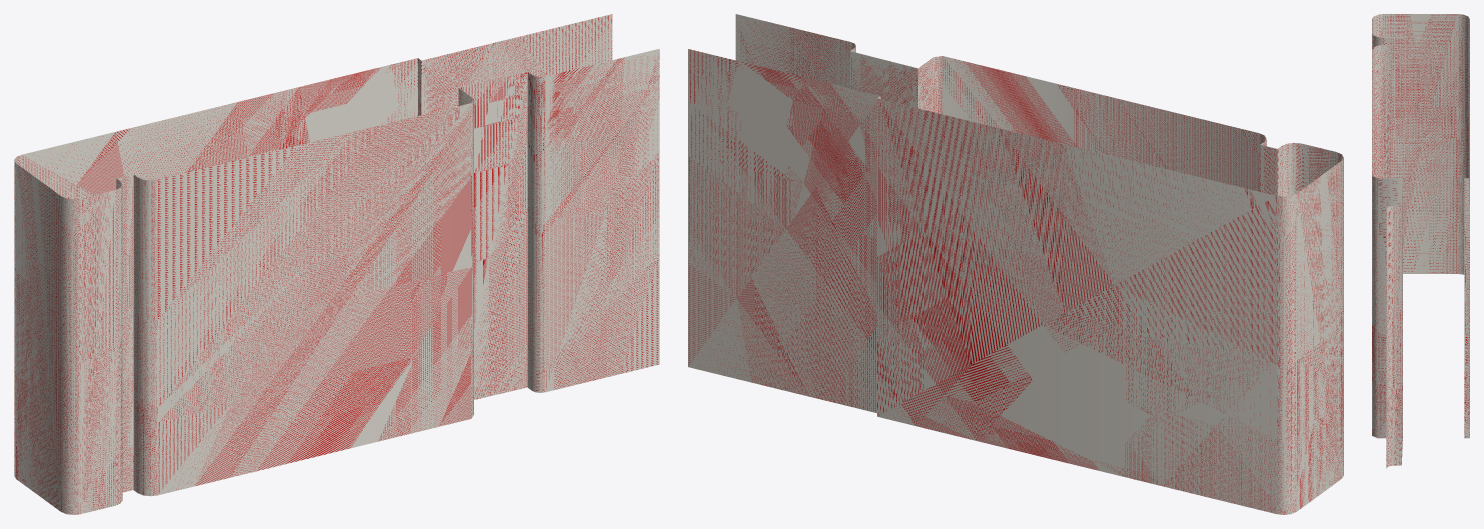
File: original-68.obj
The picture shows the model from 3 angles, left to right: view 1: azimuth 30°, elevation 25°; view 2: azimuth 150°, elevation 25°; view 3: azimuth 270°, elevation 25°; orthographic projection. The views are drawn at different scales.
Parts seen in each view (by area): view 1: DF_21_CL2/DF_21_CL/mesh28/mesh28-geometry#mesh28-geometry; view 2: DF_21_CL2/DF_21_CL/mesh28/mesh28-geometry#mesh28-geometry; view 3: DF_21_CL2/DF_21_CL/mesh28/mesh28-geometry#mesh28-geometry.
Part boxes in pixels (<box>): DF_21_CL2/DF_21_CL/mesh28/mesh28-geometry#mesh28-geometry: <box>14,14,659,514</box>; DF_21_CL2/DF_21_CL/mesh28/mesh28-geometry#mesh28-geometry: <box>688,14,1343,514</box>; DF_21_CL2/DF_21_CL/mesh28/mesh28-geometry#mesh28-geometry: <box>1372,14,1469,468</box>.
Size of the model in its own units: 0.1808 by 0.0909 by 0.0311.
